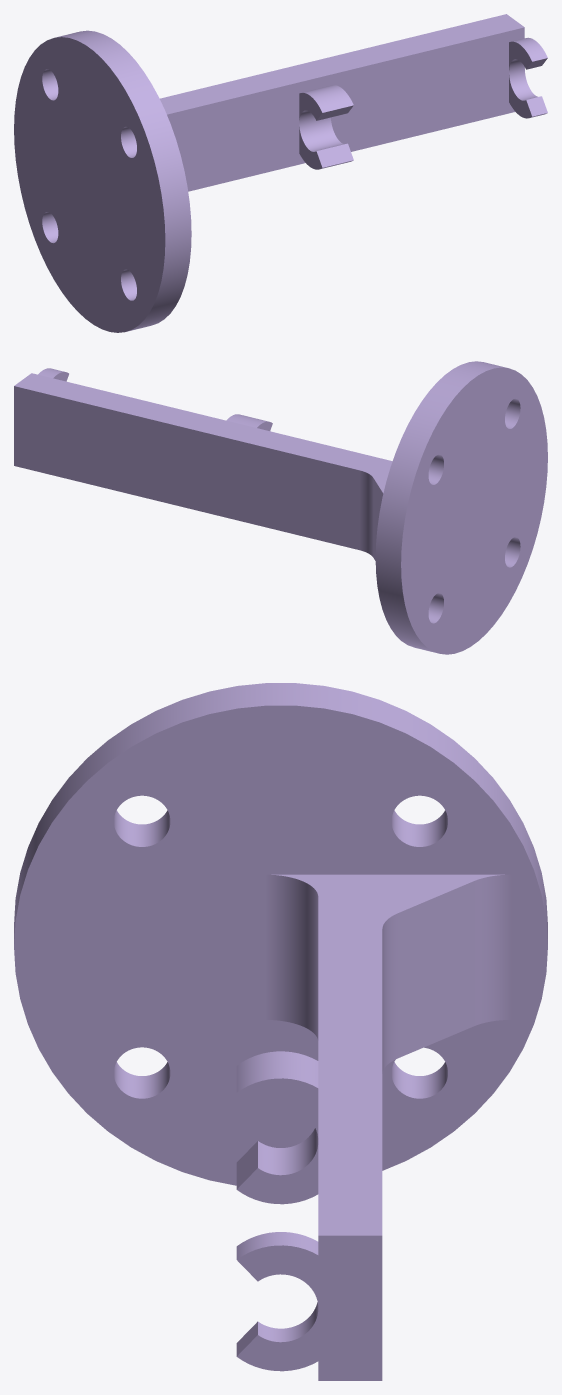
Rendered from proto porte pump - Part 1.gltf.
3 views of the same model, one above another, from view 1: azimuth 30°, elevation 25°; view 2: azimuth 150°, elevation 25°; view 3: azimuth 270°, elevation 25° (orthographic). The views are drawn at different scales.
Parts seen in each view (by area): view 1: Part 1; view 2: Part 1; view 3: Part 1.
Part boxes in pixels (x1,y1,x2,y2): Part 1: [14, 14, 547, 332]; Part 1: [14, 361, 547, 654]; Part 1: [14, 683, 547, 1380].
Bounding box in the file's own units: 0.085 × 0.0499 × 0.05.
